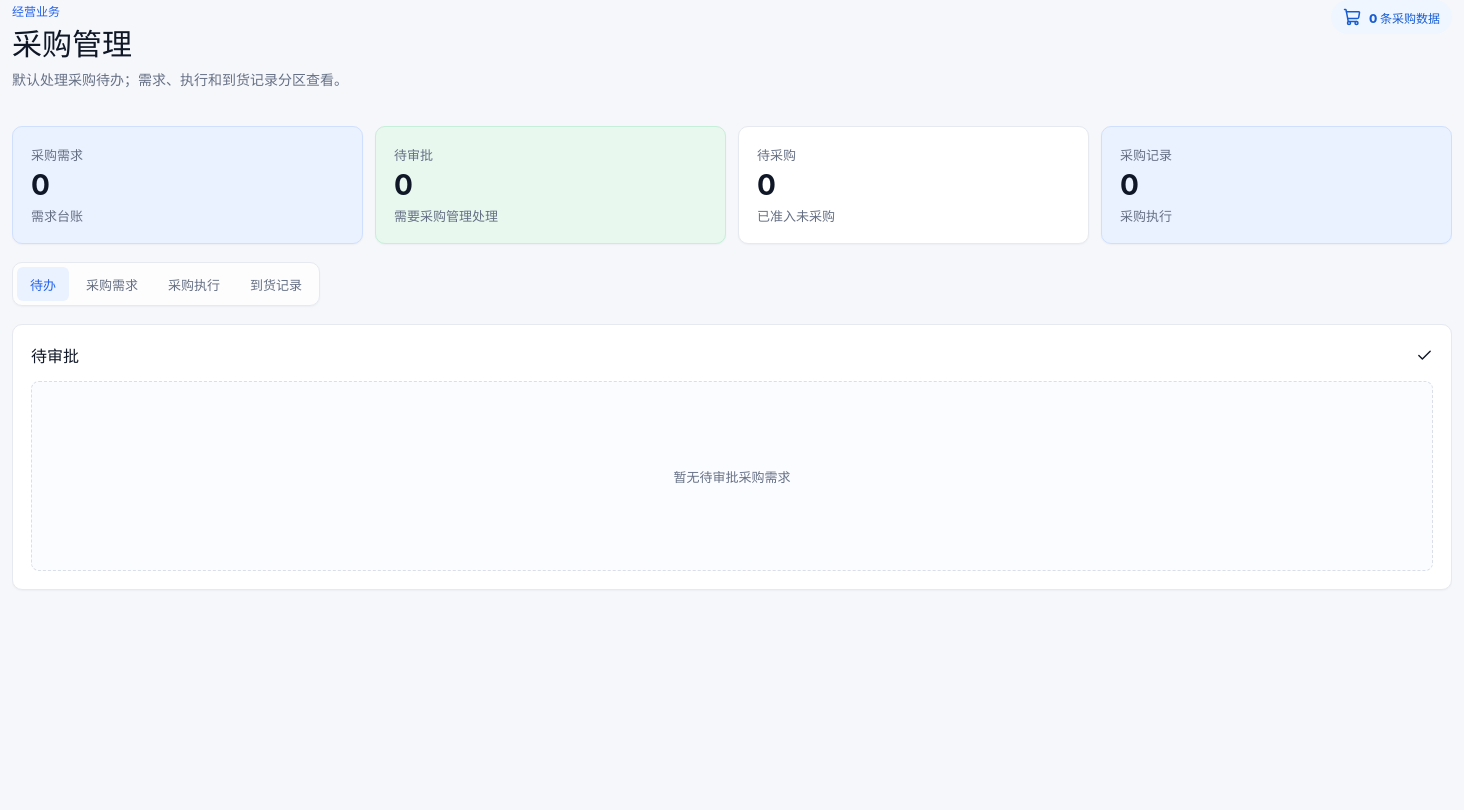
UI subtractive refactor rendered surfaces › renders purchase management as todo-first instead of showing request and record tables together
Expected: the heading "待审批" is shown, [31,344,79,368]
Expected: the text "PO20260511001" is not shown
Click the tab "采购执行" at (194, 284), box [155,268,233,302]
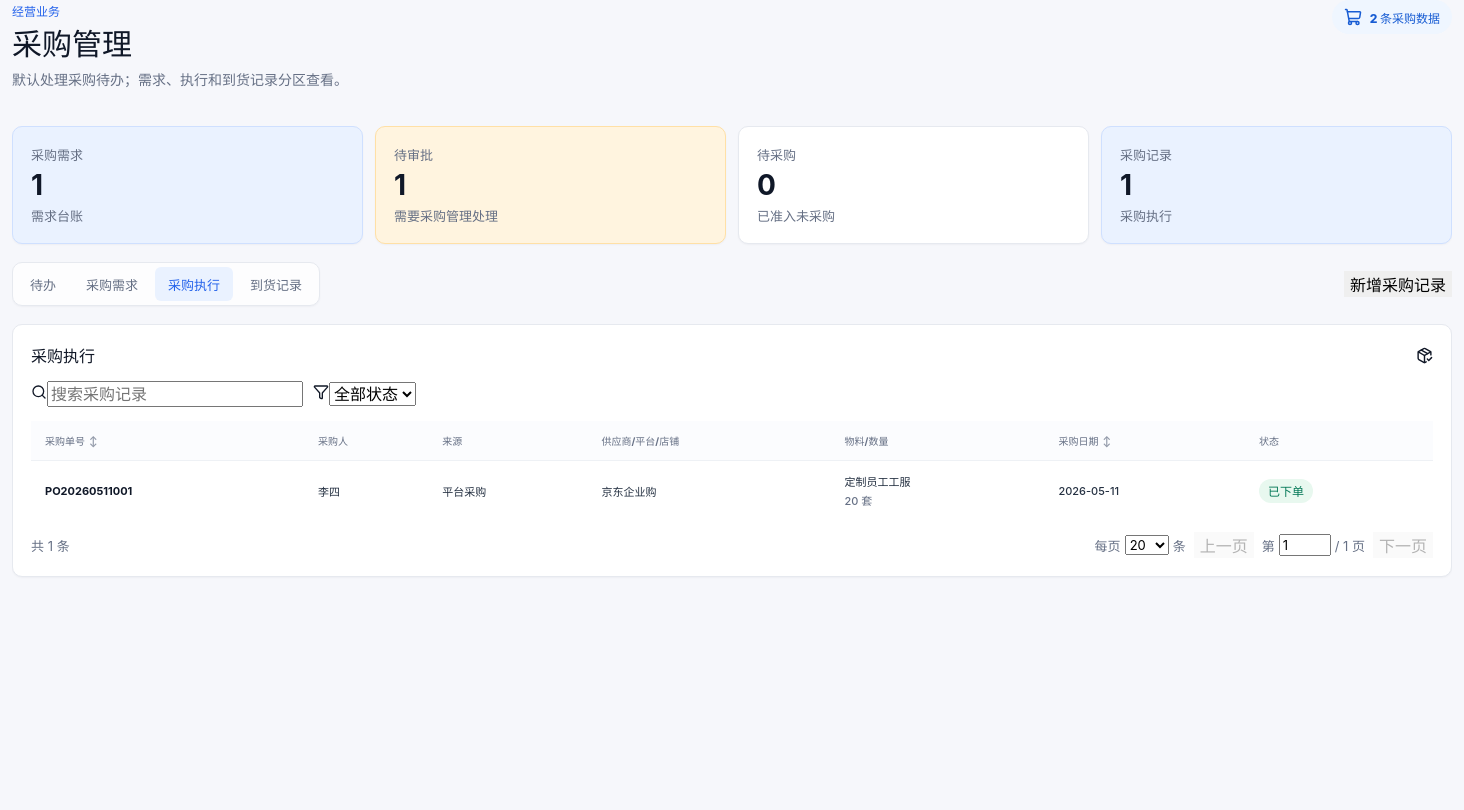
Now the heading "采购执行" is shown, box [31,344,95,368]
Now the text "PO20260511001" is shown, box [31,461,308,520]
